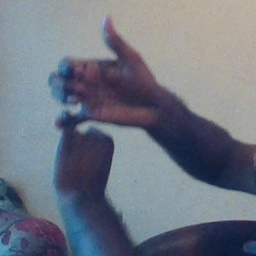S: (40, 8, 145, 177)
